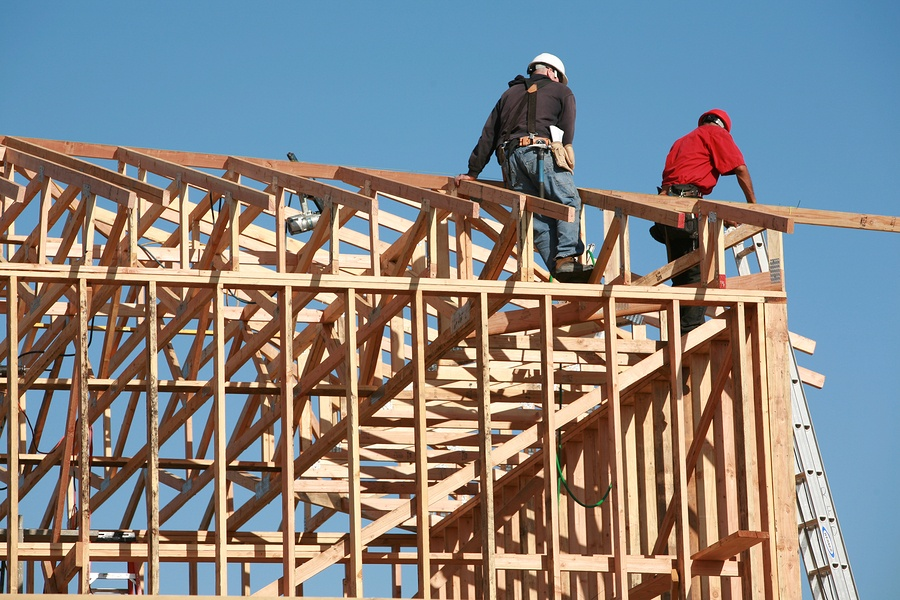red: (699, 107, 732, 135)
white: (527, 51, 569, 86)
